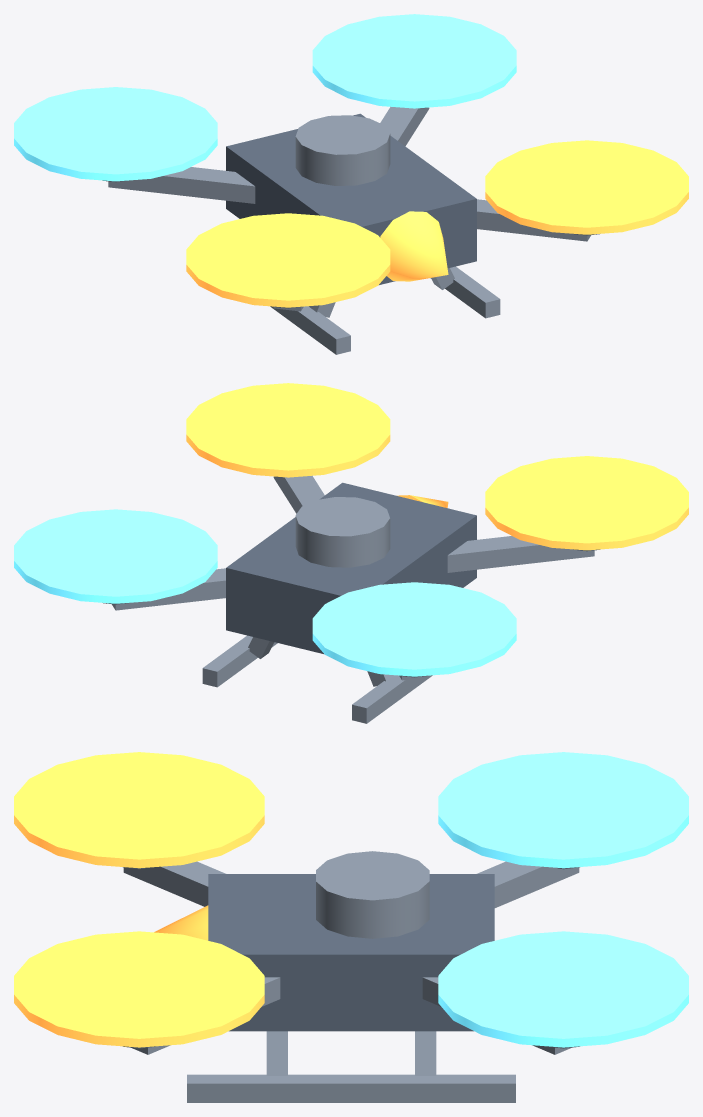
The model's file is uav_multirotor.glb.
3 views of the same model, one above another, from view 1: azimuth 30°, elevation 25°; view 2: azimuth 150°, elevation 25°; view 3: azimuth 270°, elevation 25° (orthographic). The views are drawn at different scales.
Parts seen in each view (by area): view 1: UAV_Multirotor; view 2: UAV_Multirotor; view 3: UAV_Multirotor.
Part boxes in pixels (x1,y1,x2,y2): UAV_Multirotor: (14, 14, 688, 354); UAV_Multirotor: (14, 383, 688, 723); UAV_Multirotor: (14, 752, 688, 1102).
Size of the model in its own units: 1.28 by 0.37 by 1.27.
